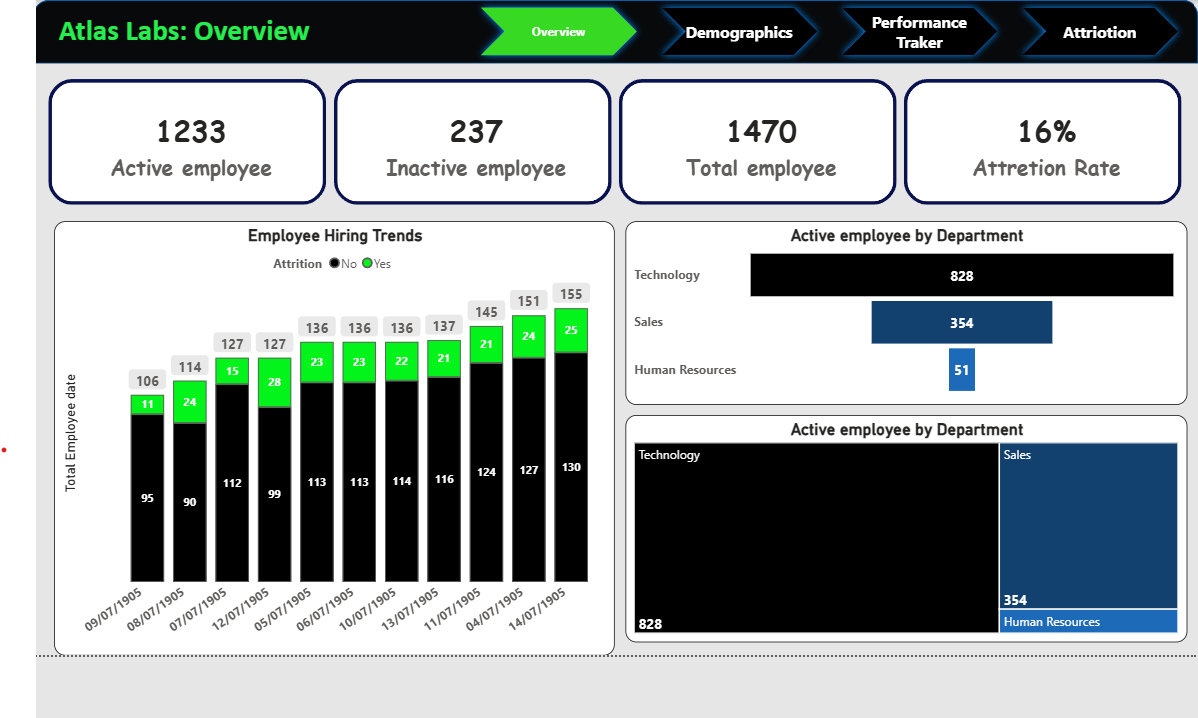

Layout of this report page (visuals, bound fields, positions):
{"tool":"powerbi","page":{"name":"Overview","canvas":[1280,720],"ordinal":0},"visuals":[{"type":"shape","box":[0,0,1280.3,70],"z":0},{"type":"textbox","box":[23.3,8.2,343.1,53.5],"z":1000},{"type":"pageNavigator","box":[483,0,784.9,70],"z":2000},{"type":"cardVisual","fields":{"Data":["_Measures.Active employee","_Measures.Inactive employee","_Measures.Total employee","_Measures.Attretion Rate"]},"box":[0,70,1280.3,172.9],"z":3000},{"type":"columnChart","title":"Employee Hiring Trends","fields":{"Category":["DimDate.Year"],"Y":["_Measures.Total Employee date"],"Series":["DimEmployee.Attrition"]},"box":[24,242.8,615.4,477.1],"z":4000},{"type":"funnel","fields":{"Y":["_Measures.Active employee"],"Category":["DimEmployee.Department"]},"box":[650.7,242.8,616.9,201.9],"z":5000},{"type":"treemap","fields":{"Values":["_Measures.Active employee"],"Group":["DimEmployee.Department","DimEmployee.JobRole","DimEmployee.Department Hierarchy.Department","DimEmployee.Department Hierarchy.JobRole"]},"box":[650.7,455.9,616.9,249.8],"z":6000}]}

Visuals, with their boxes on the page's 1280x720 design canvas (x1, y1, x2, y2). These are canvas units, not pixel positions in the 1198x718 screenshot, which may show the page scaled, cropped or inside an application window:
shape: x1=0, y1=0, x2=1280, y2=70
textbox: x1=23, y1=8, x2=366, y2=62
pageNavigator: x1=483, y1=0, x2=1268, y2=70
cardVisual - _Measures.Active employee x _Measures.Inactive employee: x1=0, y1=70, x2=1280, y2=243
"Employee Hiring Trends" columnChart: x1=24, y1=243, x2=639, y2=720
funnel - _Measures.Active employee x DimEmployee.Department: x1=651, y1=243, x2=1268, y2=445
treemap - _Measures.Active employee x DimEmployee.Department: x1=651, y1=456, x2=1268, y2=706
